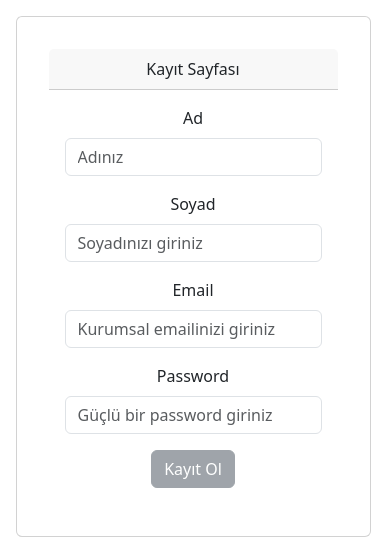
Test case: Forms Page › Form inputs validated › button enabled for validated inputs
Type "Hande" into the field with test id "ad-input" at x=194, y=157, box [65, 138, 322, 176]
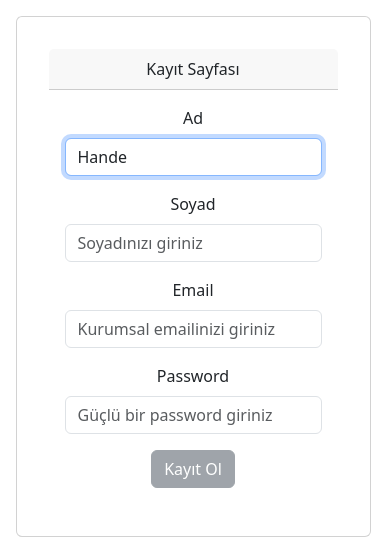
Type "Taşkıran" into the field with test id "soyad-input" at x=194, y=243, box [65, 224, 322, 262]
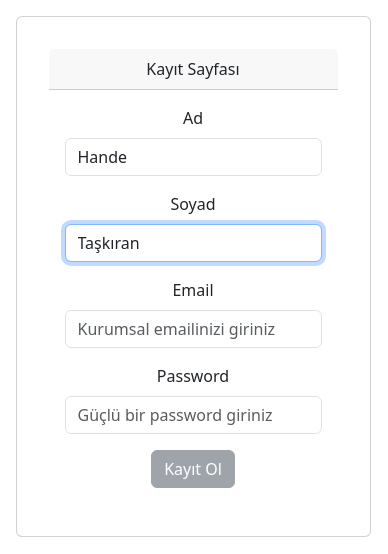
Type "hadne@wit.com.tr" into the field with test id "email-input" at x=194, y=329, box [65, 310, 322, 348]
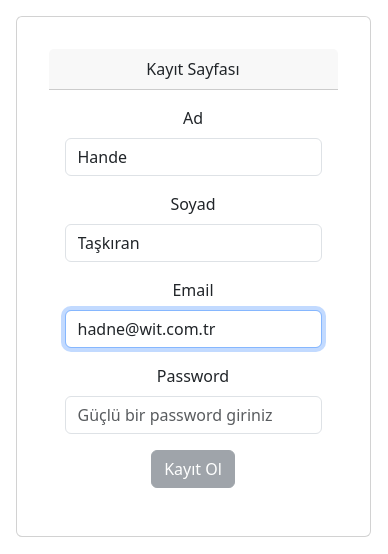
Type "123456Hh." into the password field with test id "password-input" at x=194, y=415, box [65, 396, 322, 434]
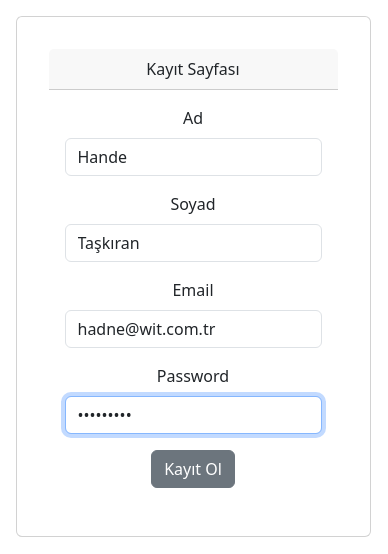
Now the button with test id "submit" is enabled, box [151, 450, 235, 488]
